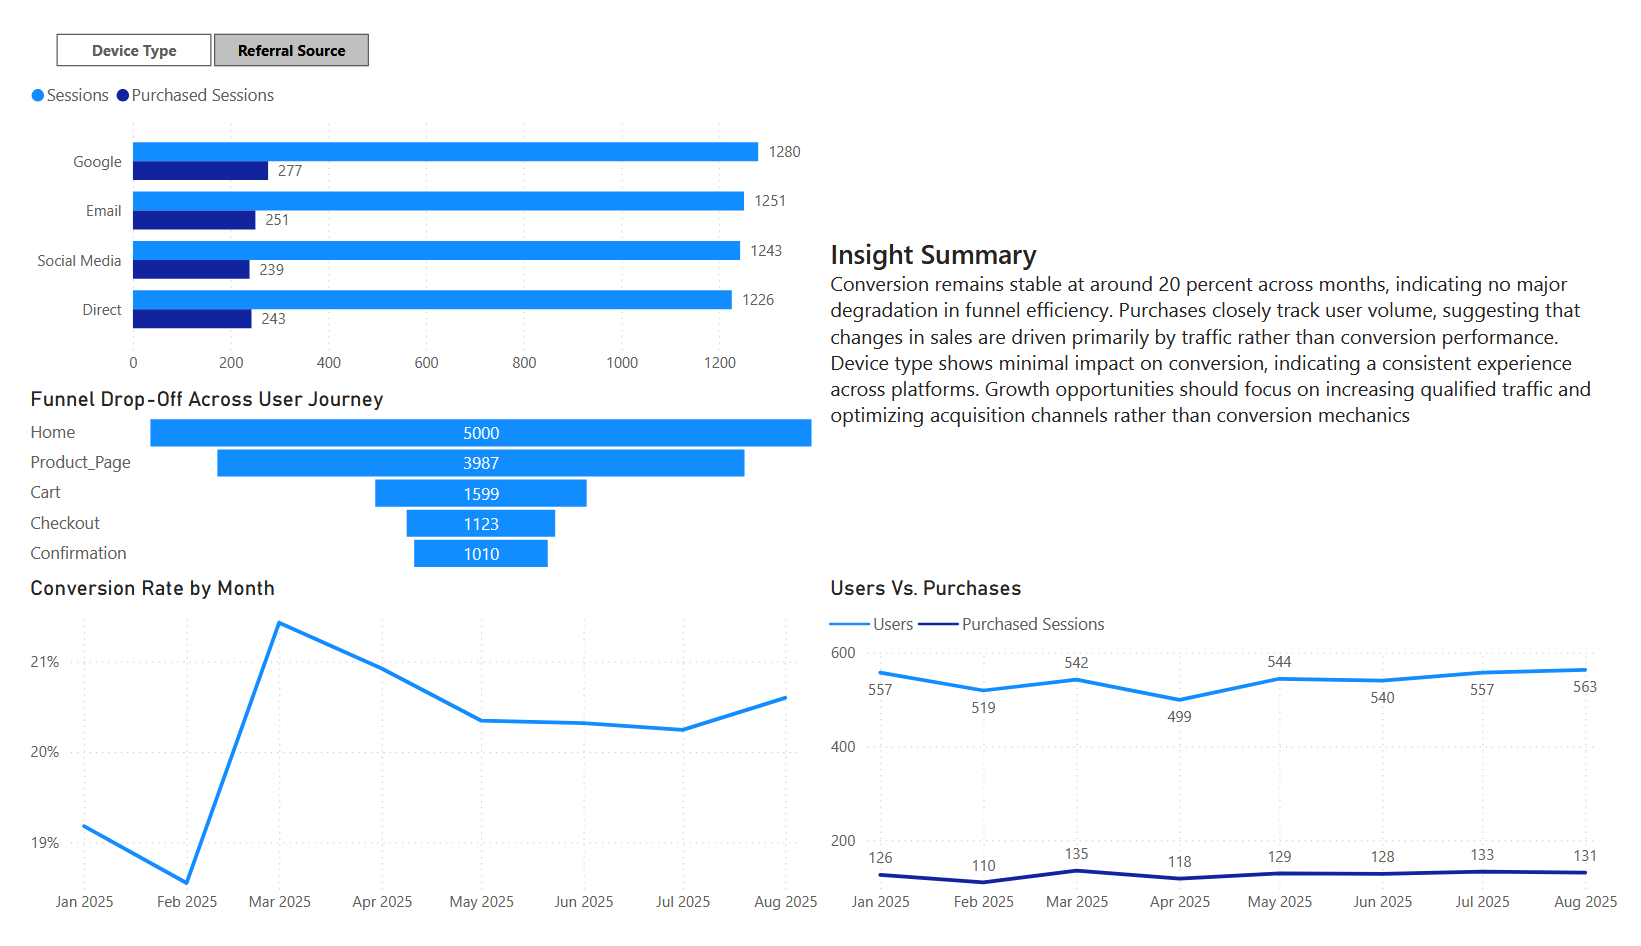

This screenshot's page, from the dashboard's own definition file:
{"tool":"powerbi","page":{"name":"Page 1","canvas":[1280,720],"ordinal":0},"visuals":[{"type":"lineChart","title":"Users Vs. Purchases","fields":{"Category":["customer_journey.Start of Month"],"Y":["Measure Table.Users","Measure Table.Purchased Sessions"]},"box":[640,440.2,640,279.9],"z":0},{"type":"lineChart","title":"Conversion Rate by Month","fields":{"Category":["customer_journey.Start of Month"],"Y":["Measure Table.Purchase Rate"]},"box":[0,440.2,640,279.9],"z":1000},{"type":"funnel","title":"Funnel Drop-Off Across User Journey","fields":{"Category":["customer_journey.PageType"],"Y":["Measure Table.Sessions"]},"box":[0,289.2,640,152.2],"z":2000},{"type":"clusteredBarChart","fields":{"Category":["customer_journey.ReferralSource"],"Y":["Measure Table.Sessions","Measure Table.Purchased Sessions"]},"box":[0,36,640,253.2],"z":4000},{"type":"slicer","fields":{"Values":["Parameter.Parameter"]},"box":[0,0,300,39],"z":4500},{"type":"textbox","box":[640,162.6,640,197.5],"z":4501}]}

Visuals, with their boxes in screenshot pixels (x1, y1, x2, y2), scaled from the page's 1280x720 canvas onto the 1641x946 screenshot:
"Users Vs. Purchases" lineChart: (left=820, top=578, right=1640, bottom=945)
"Conversion Rate by Month" lineChart: (left=0, top=578, right=820, bottom=945)
"Funnel Drop-Off Across User Journey" funnel: (left=0, top=380, right=820, bottom=580)
clusteredBarChart - customer_journey.ReferralSource x Measure Table.Sessions: (left=0, top=47, right=820, bottom=380)
slicer - Parameter.Parameter: (left=0, top=0, right=385, bottom=51)
textbox: (left=820, top=214, right=1640, bottom=473)
